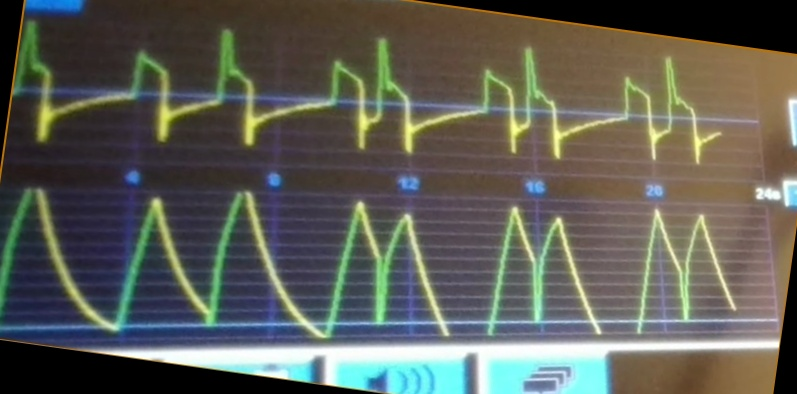Double_Triggering Flow: (22, 17, 722, 167)
Double_Triggering Volume: (7, 187, 737, 341)
